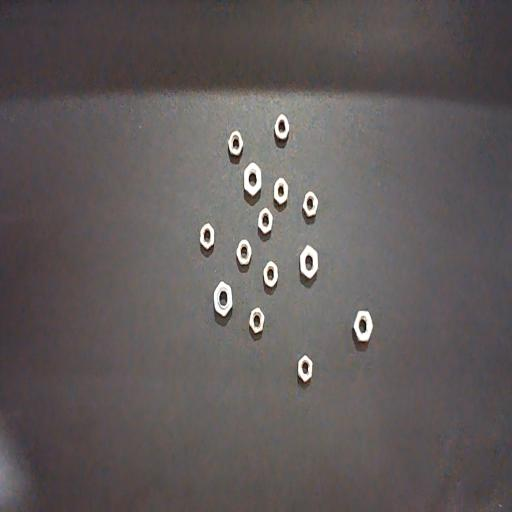nut: (213, 280, 233, 318), (243, 161, 262, 197), (353, 310, 373, 343), (300, 245, 318, 280), (273, 177, 289, 206), (297, 354, 313, 383), (199, 222, 215, 250), (236, 238, 252, 266), (263, 260, 279, 288), (249, 306, 265, 334), (227, 130, 243, 157), (274, 114, 290, 141), (302, 190, 318, 217), (258, 207, 274, 234)
